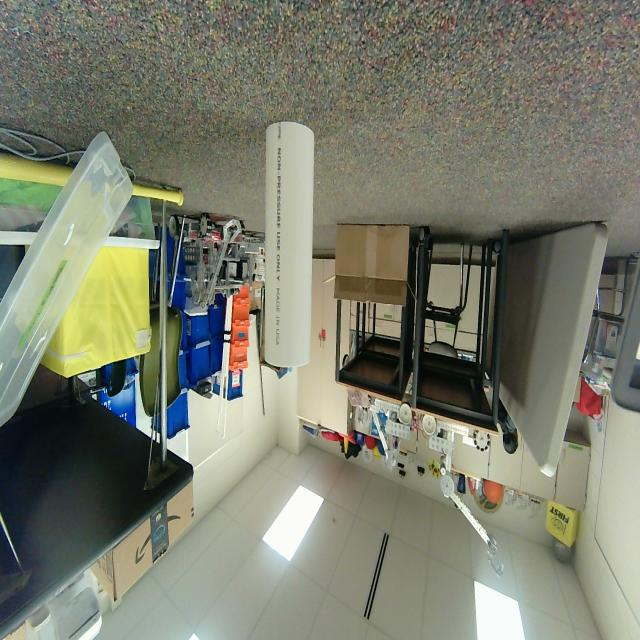coral: (258, 120, 315, 378)
